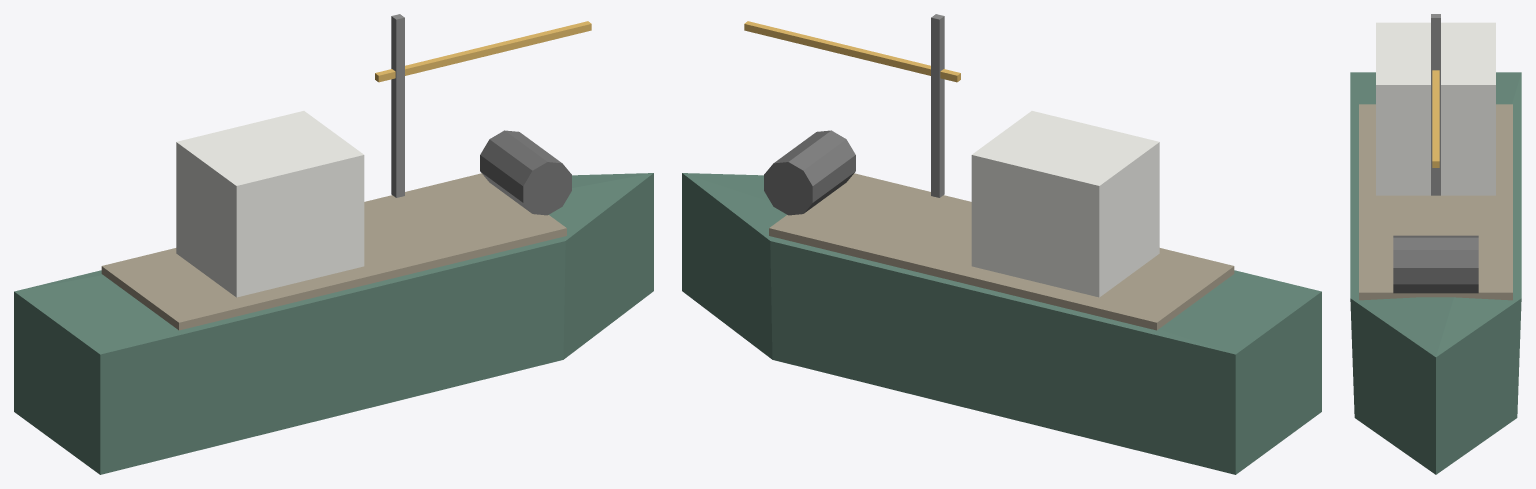
The model's file is fishing.glb.
3 views of the same model, side by side, from view 1: azimuth 30°, elevation 25°; view 2: azimuth 150°, elevation 25°; view 3: azimuth 270°, elevation 25° (orthographic).
Parts seen in each view (by area): view 1: hull, house, deck, reel, mast, boom; view 2: hull, house, deck, reel, mast, boom; view 3: hull, house, deck, reel, mast, boom.
Part boxes in pixels (bbox=[...]): hull: bbox=[14, 173, 653, 474]; house: bbox=[176, 111, 364, 297]; deck: bbox=[101, 173, 566, 330]; reel: bbox=[480, 130, 571, 215]; mast: bbox=[391, 14, 404, 197]; boom: bbox=[375, 21, 591, 82]; hull: bbox=[682, 173, 1321, 474]; house: bbox=[971, 111, 1159, 297]; deck: bbox=[769, 173, 1234, 330]; reel: bbox=[764, 130, 855, 215]; mast: bbox=[931, 14, 944, 197]; boom: bbox=[744, 21, 960, 82]; hull: bbox=[1350, 72, 1521, 474]; house: bbox=[1376, 22, 1495, 195]; deck: bbox=[1359, 104, 1512, 300]; reel: bbox=[1393, 235, 1478, 293]; mast: bbox=[1431, 14, 1440, 195]; boom: bbox=[1432, 70, 1439, 167].
Size of the model in its own units: 28 by 15.4 by 7.
